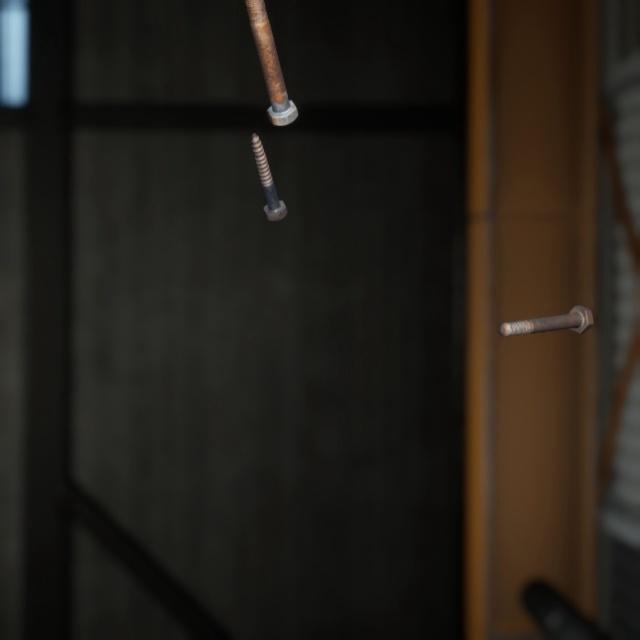bolt: (242, 0, 302, 120), (246, 113, 292, 211), (494, 283, 598, 323)
